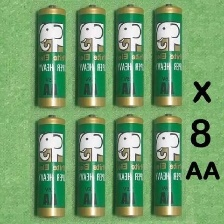battery: (149, 109, 185, 219), (32, 112, 68, 220), (149, 1, 185, 108), (34, 2, 68, 110), (112, 1, 146, 109), (112, 111, 146, 219), (73, 113, 107, 220), (76, 2, 109, 110)
